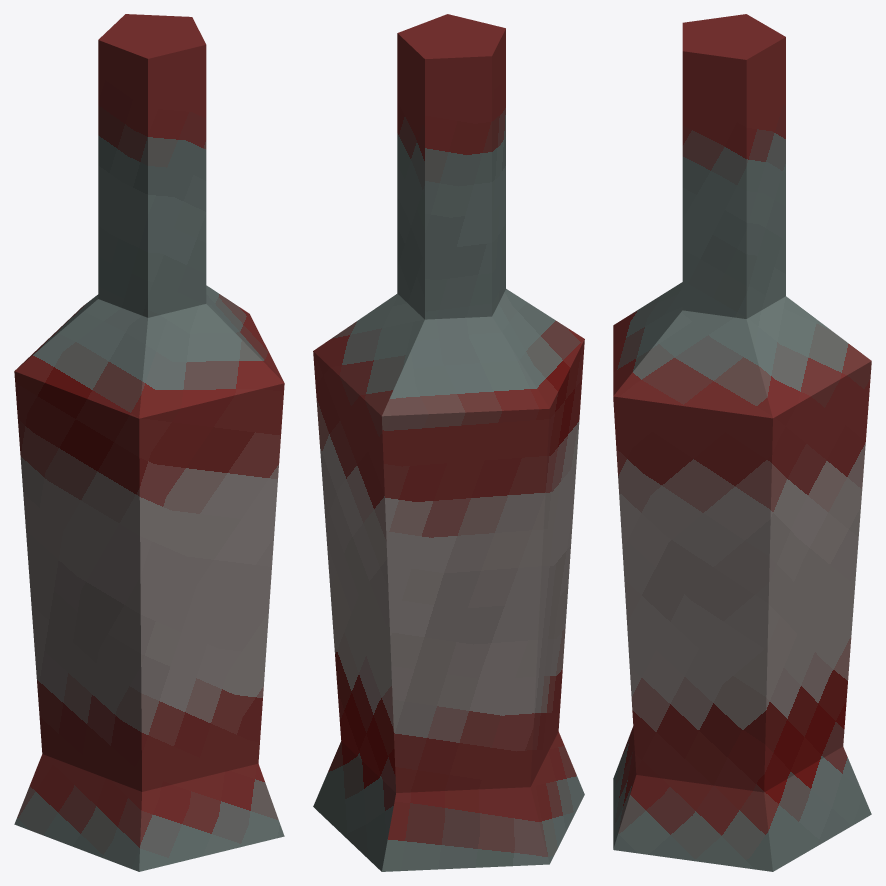
The model's file is bottle.fbx.
3 renders of one model, left to right at view 1: azimuth 30°, elevation 25°; view 2: azimuth 150°, elevation 25°; view 3: azimuth 270°, elevation 25°, orthographic.
Parts seen in each view (by area): view 1: Цилиндр.002; view 2: Цилиндр.002; view 3: Цилиндр.002.
Boxes of the visible parts, box(x1,y1,x2,y2) form: Цилиндр.002: box(14, 14, 284, 871); Цилиндр.002: box(313, 14, 584, 871); Цилиндр.002: box(613, 14, 871, 871).
Size of the model in its own units: 2.93 by 9.24 by 2.79.
